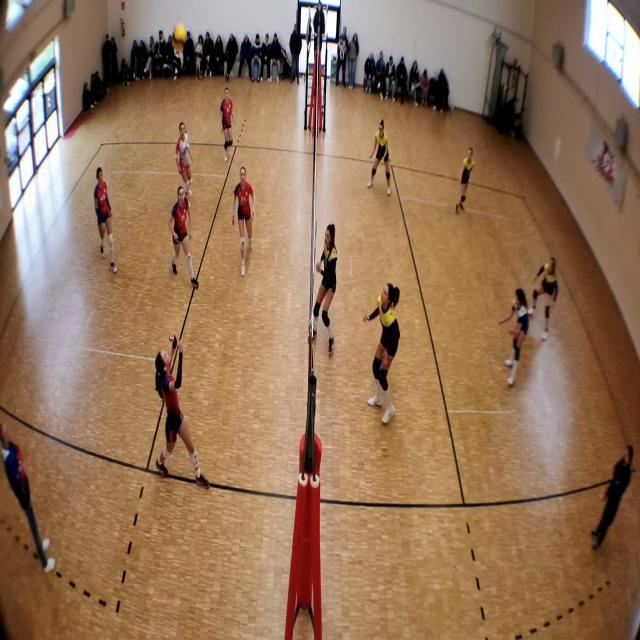volleyball: (172, 23, 186, 50)
